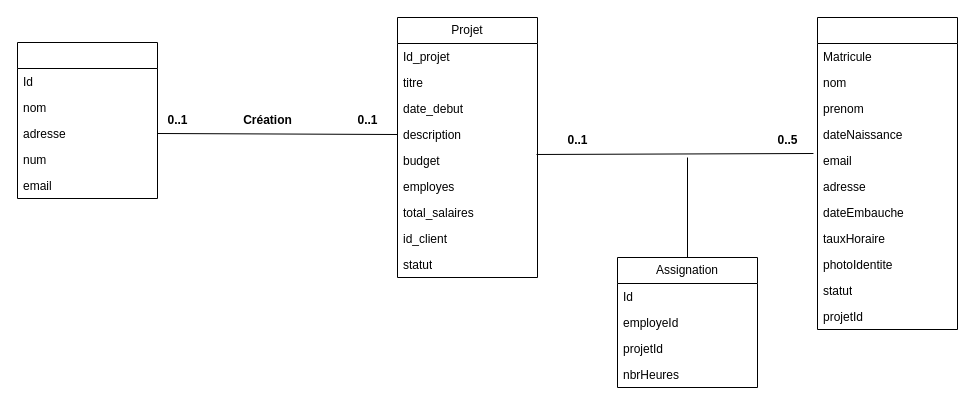
The diagram is 975 pixels wide and 408 high, and some of its shapes have lost their labels. The shapes that lost their labels are listed below. From the top down, each one's box as (x1, y1, x2, y2) in pixels, then its label:
(16, 42, 158, 198): Client
(816, 16, 958, 330): Employe
